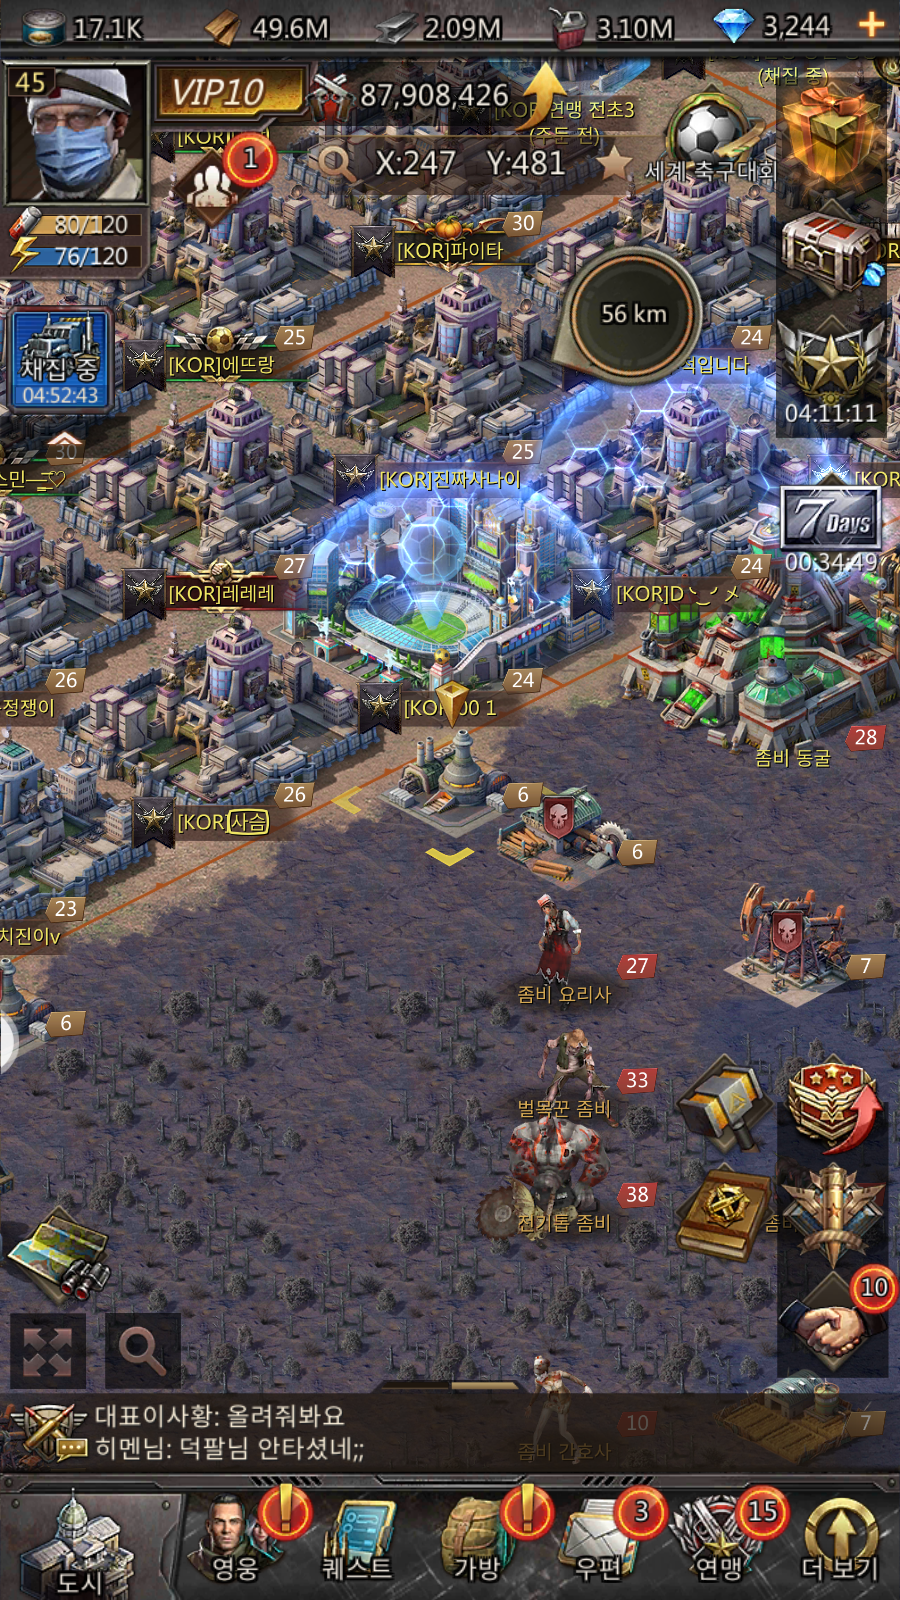city: (7, 1491, 177, 1600)
empty_steel: (322, 665, 589, 885)
open_panel: (89, 1293, 204, 1409)
troops_cnt_1: (164, 120, 282, 242)
